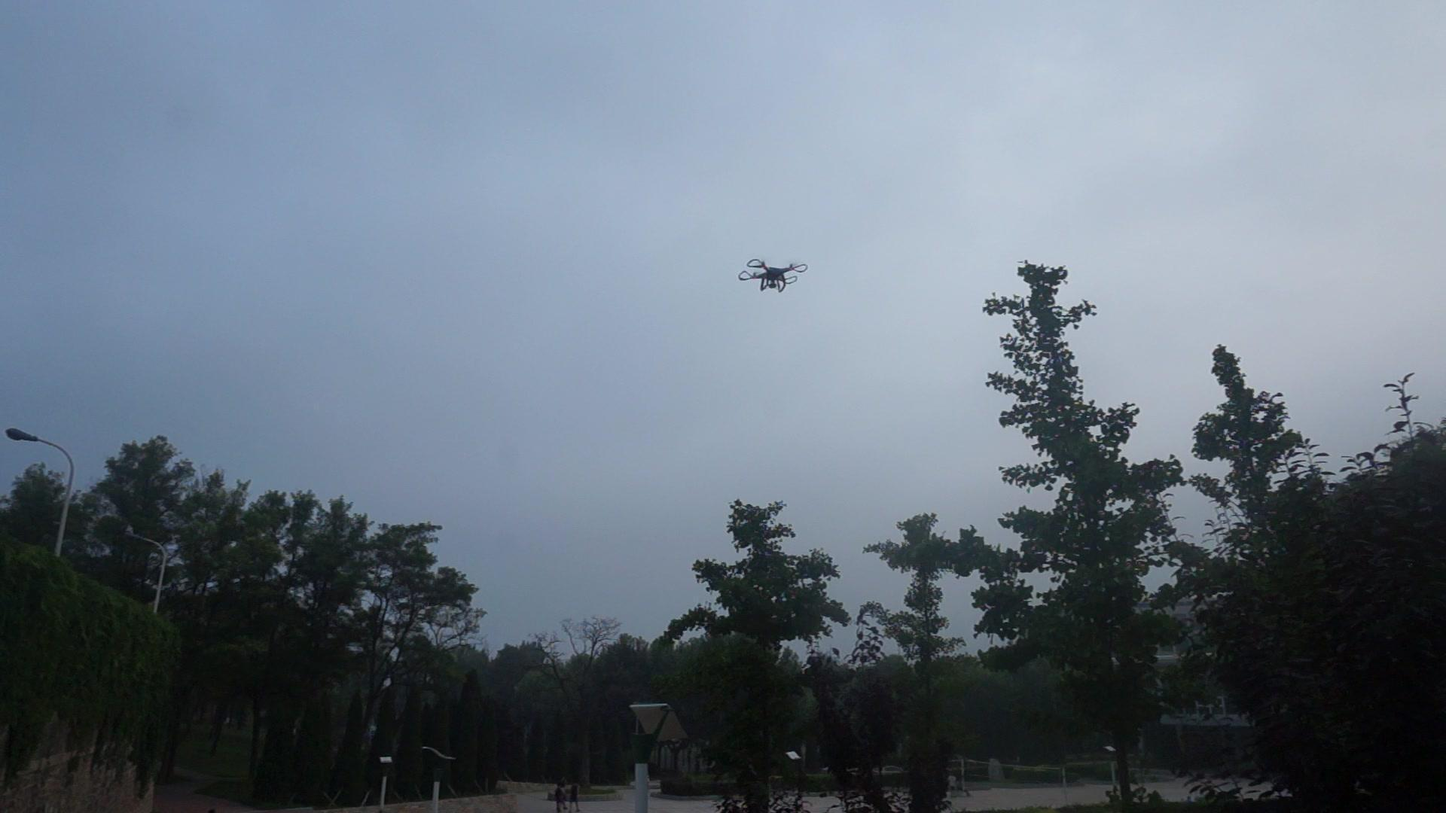UAV: (738, 259, 809, 294)
